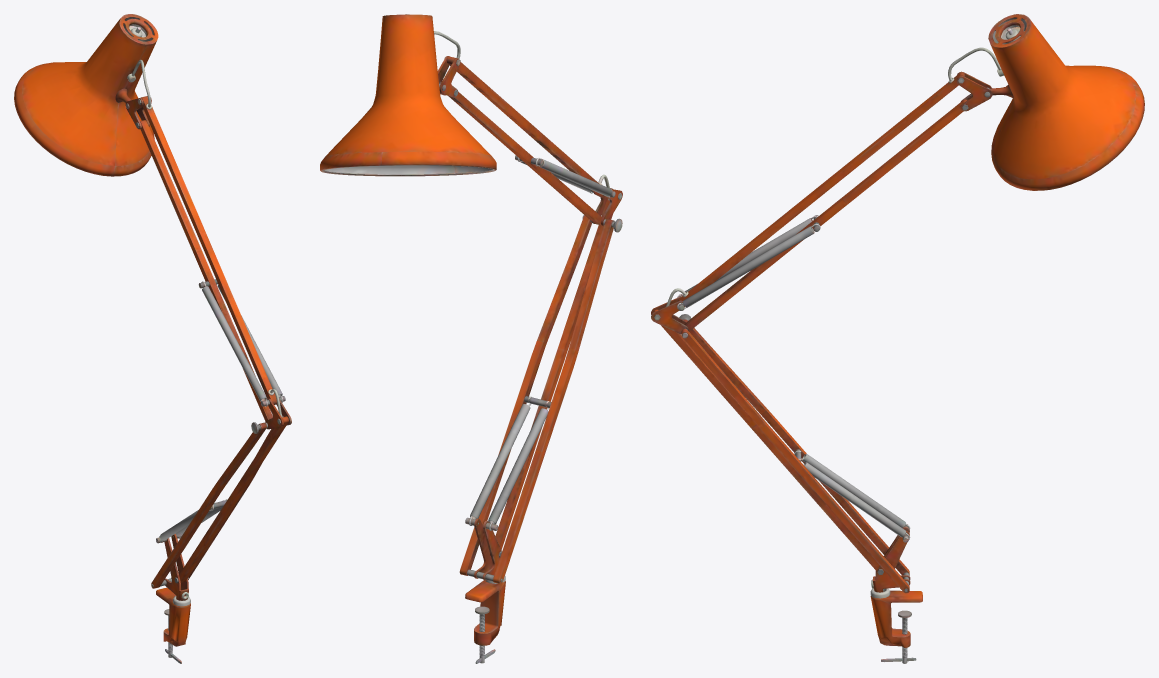
The model's file is desk-lamp.glb.
3 views of the same model, side by side, from view 1: azimuth 30°, elevation 25°; view 2: azimuth 150°, elevation 25°; view 3: azimuth 270°, elevation 25° (orthographic). The views are drawn at different scales.
Parts seen in each view (by area): view 1: desk_lamp_arm_01; view 2: desk_lamp_arm_01; view 3: desk_lamp_arm_01.
Part boxes in pixels (box(x1,y1,x2,y2)): desk_lamp_arm_01: box(14, 14, 291, 663); desk_lamp_arm_01: box(320, 14, 622, 663); desk_lamp_arm_01: box(651, 14, 1144, 663).
Bounding box in the file's own units: 0.2017 × 0.8926 × 0.6139.
2 materials, 2 textured.
